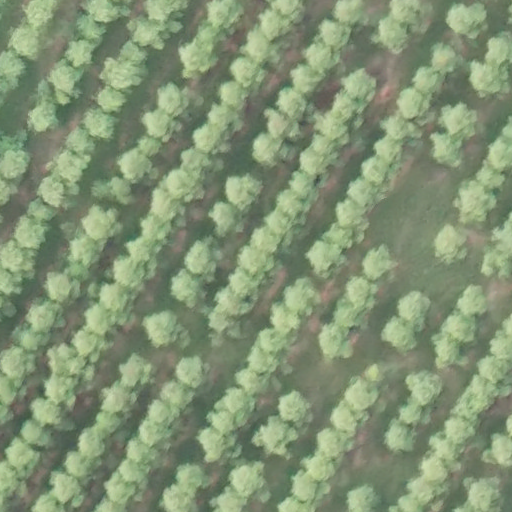eucalipto: (455, 179, 495, 226), (330, 294, 371, 338), (114, 352, 161, 389), (438, 104, 483, 142), (233, 368, 283, 402), (403, 369, 444, 410), (378, 318, 420, 358), (426, 133, 466, 174), (283, 278, 322, 320), (143, 310, 183, 350), (317, 320, 357, 360), (429, 224, 469, 264), (465, 374, 505, 414), (360, 242, 399, 283), (440, 306, 479, 347), (445, 1, 491, 35), (7, 212, 48, 250), (467, 64, 512, 98), (167, 270, 205, 310), (241, 31, 283, 67), (267, 302, 306, 340), (96, 282, 135, 318), (184, 240, 223, 276), (105, 53, 142, 90), (395, 88, 431, 125), (84, 205, 122, 240), (225, 175, 263, 210), (214, 286, 253, 320), (429, 335, 463, 374), (348, 367, 388, 400), (44, 269, 79, 306), (297, 144, 336, 177), (397, 291, 430, 330), (178, 43, 219, 74), (113, 256, 148, 292), (374, 21, 410, 56), (128, 15, 165, 49), (307, 241, 345, 274), (191, 124, 230, 156), (455, 284, 490, 319), (1, 238, 35, 274), (167, 170, 204, 203), (333, 200, 371, 232), (174, 358, 213, 389), (347, 177, 386, 208), (287, 66, 327, 96), (83, 109, 117, 144), (152, 82, 187, 116), (180, 148, 215, 182), (151, 188, 185, 223), (264, 108, 298, 143), (478, 352, 512, 387), (205, 1, 246, 30), (393, 1, 434, 30), (52, 62, 85, 98), (427, 42, 460, 78), (10, 27, 47, 59), (361, 156, 395, 190), (345, 276, 379, 310), (301, 40, 339, 70), (237, 247, 275, 277), (341, 67, 375, 100), (253, 134, 288, 166), (1, 349, 32, 385), (275, 192, 305, 229), (318, 112, 351, 145), (264, 208, 297, 241), (85, 304, 119, 336), (211, 203, 243, 237), (287, 171, 321, 203), (25, 102, 60, 133), (67, 326, 103, 356), (317, 20, 353, 50), (257, 329, 293, 359), (486, 31, 512, 72), (276, 89, 308, 122), (210, 105, 244, 136), (125, 235, 159, 266), (138, 214, 175, 242), (20, 1, 58, 28), (69, 238, 101, 270), (413, 67, 445, 99), (383, 114, 415, 146), (328, 96, 361, 127), (121, 150, 151, 184), (372, 135, 406, 165), (145, 112, 177, 143), (30, 303, 63, 333), (93, 87, 127, 116), (17, 324, 51, 353), (229, 272, 263, 301), (56, 152, 87, 183), (331, 1, 369, 26), (244, 349, 279, 376), (325, 224, 358, 252), (82, 1, 123, 23), (232, 58, 261, 89), (268, 1, 307, 24), (250, 226, 282, 254), (1, 54, 27, 88), (40, 176, 66, 210), (477, 162, 507, 191), (64, 38, 95, 66), (1, 149, 29, 180), (73, 16, 107, 41), (141, 1, 185, 20), (259, 12, 290, 38), (489, 141, 512, 176), (219, 85, 248, 112), (490, 329, 512, 363), (26, 197, 55, 222), (68, 124, 93, 152), (498, 110, 512, 144)
